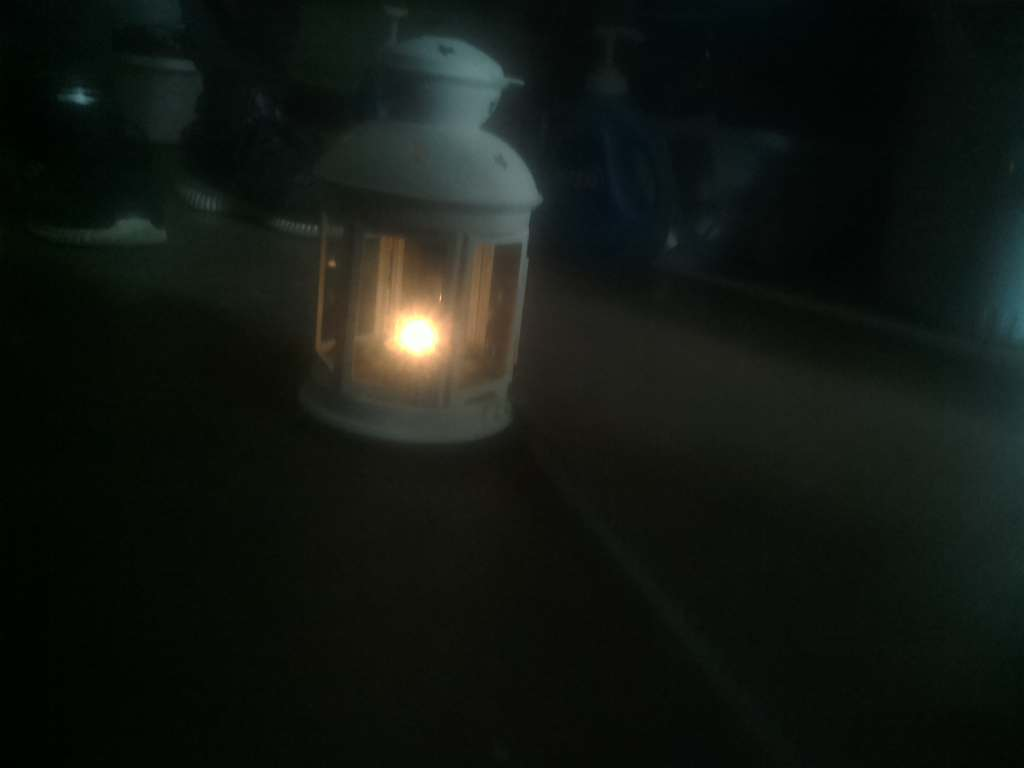fire: (376, 307, 460, 384)
